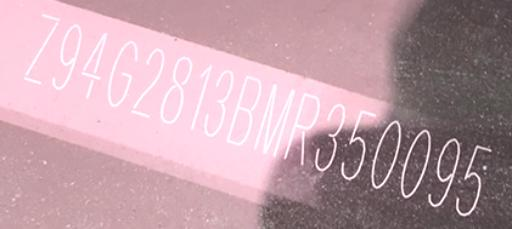letter: (17, 9, 63, 89), (250, 81, 294, 158), (452, 143, 496, 218), (336, 108, 380, 181), (280, 92, 322, 167), (126, 44, 168, 119), (396, 125, 438, 199), (75, 24, 115, 101), (422, 135, 464, 207), (224, 74, 266, 145), (101, 37, 141, 111), (46, 19, 86, 91), (310, 101, 350, 172), (366, 115, 404, 189), (155, 54, 195, 123), (198, 67, 236, 138), (184, 61, 216, 130)
